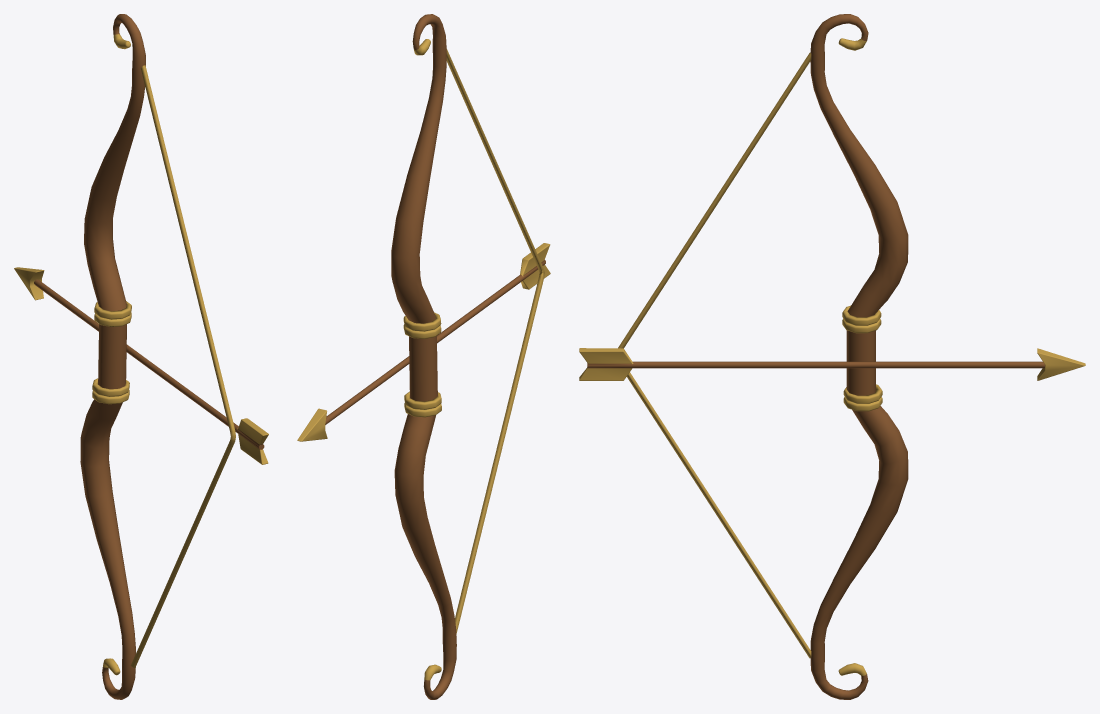
The model's file is bow.fbx.
3 views of the same model, side by side, from view 1: azimuth 30°, elevation 25°; view 2: azimuth 150°, elevation 25°; view 3: azimuth 270°, elevation 25° (orthographic).
Parts seen in each view (by area): view 1: bow, arrow; view 2: bow, arrow; view 3: bow, arrow.
Part boxes in pixels (left/top/right/bottom): bow: left=80, top=14, right=235, bottom=699; arrow: left=14, top=267, right=268, bottom=464; bow: left=391, top=14, right=544, bottom=699; arrow: left=297, top=243, right=550, bottom=441; bow: left=618, top=14, right=908, bottom=699; arrow: left=579, top=348, right=1085, bottom=380.
Size of the model in its own units: 9.78 by 173 by 115.
